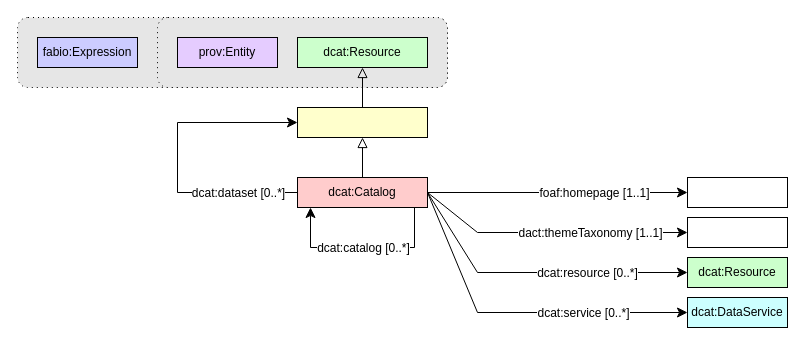
The diagram is 805 pixels wide and 345 high, and some of its shapes have lost their labels. The centre of each missing label's shape, as x and y in pixels:
"dcat:Dataset" belongs at (362,122).
"foaf:Document" belongs at (737,192).
"rdfs:Resource" belongs at (737,232).
